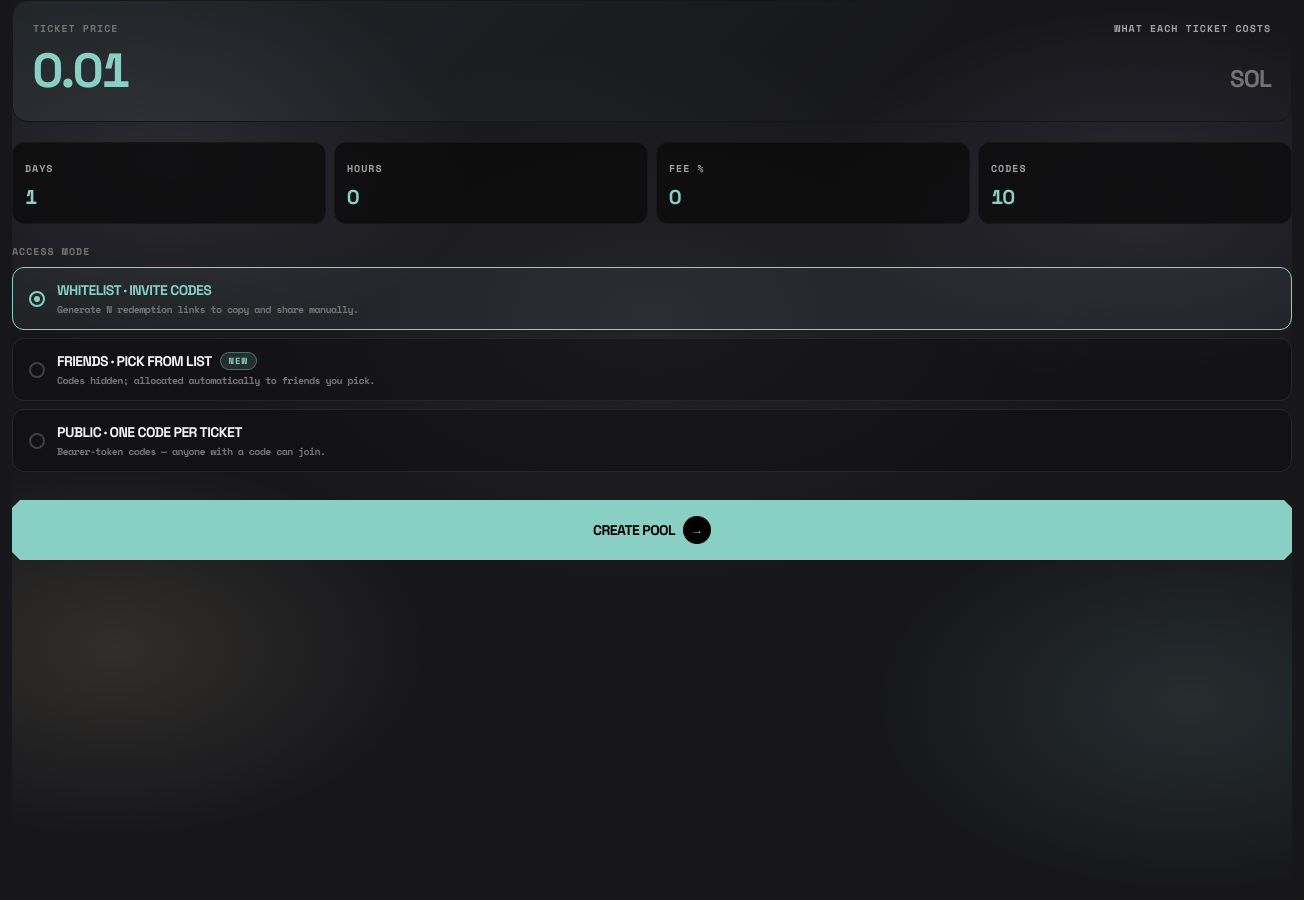
Scenario: <CreatePoolForm /> › disables submit when ticket price is cleared
Clear the number field labelled "Ticket price" at (628, 70), box [33,40,1222,101]
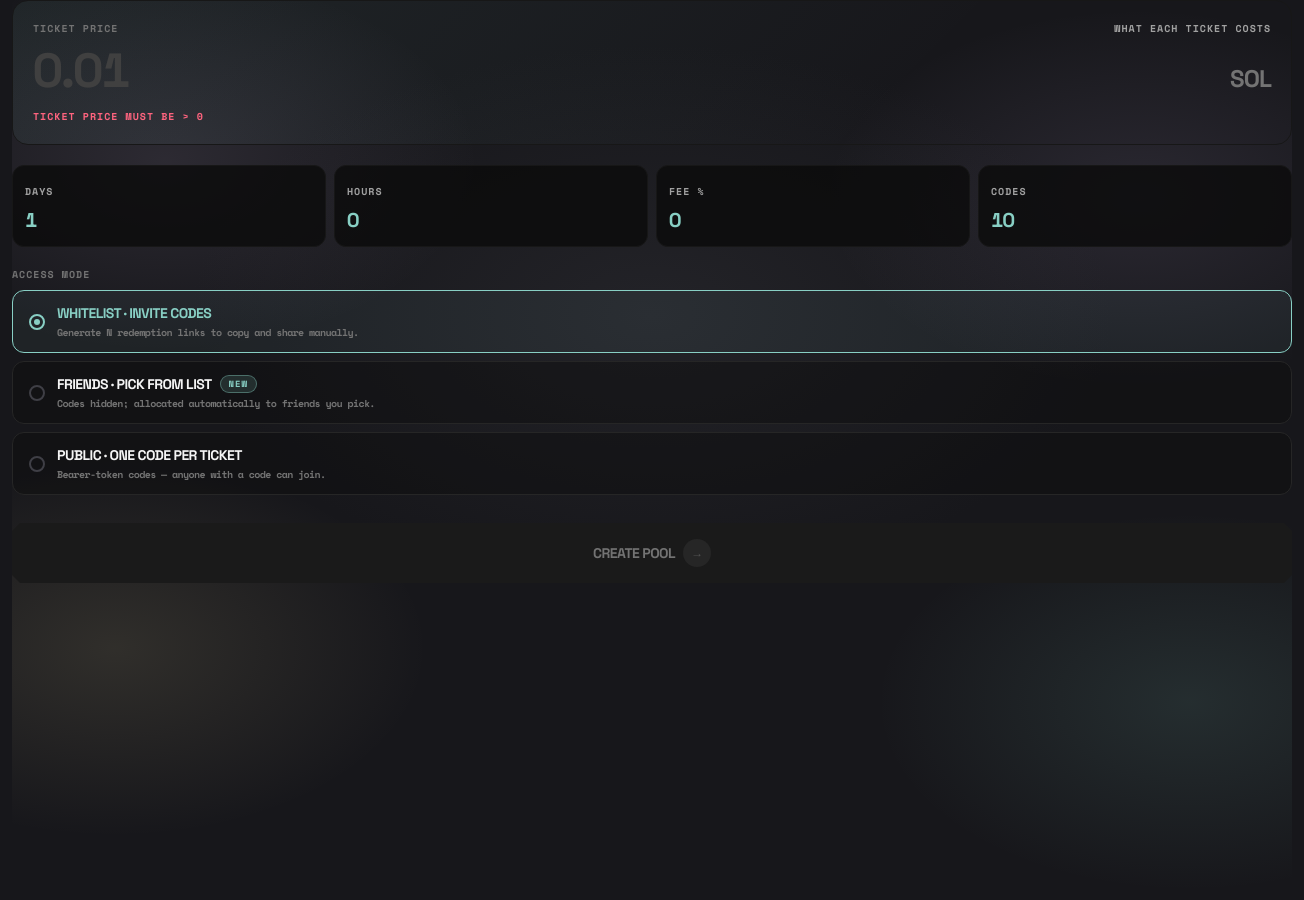
Now the button "CREATE POOL →" is disabled, box [12,523,1292,583]
